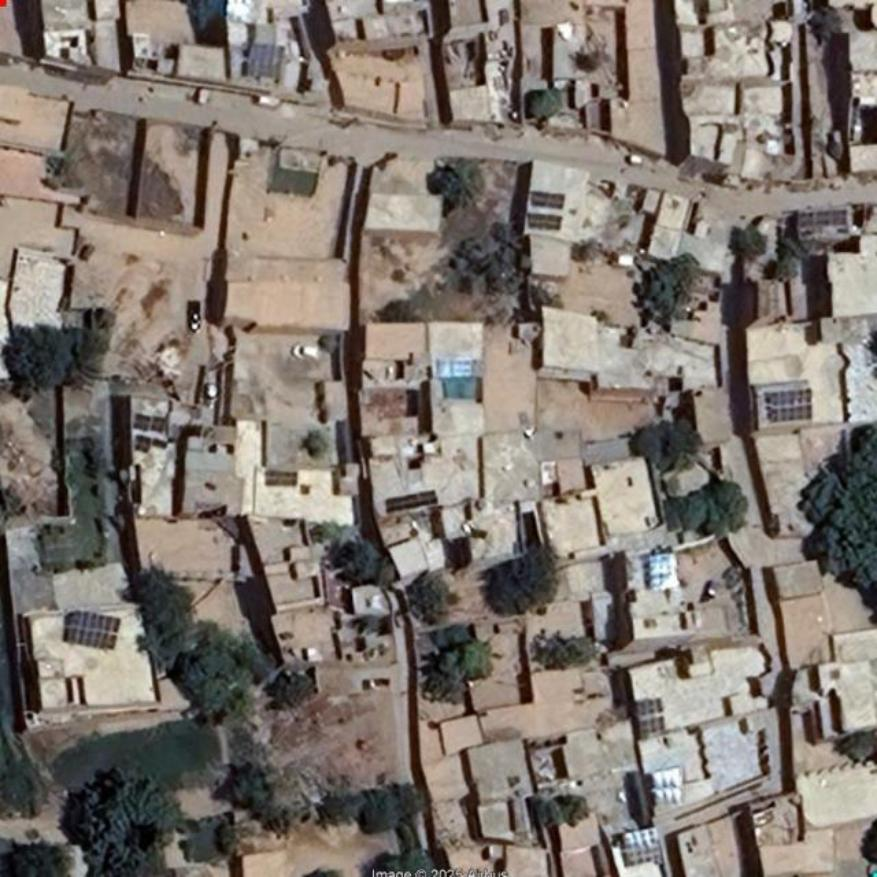Solarpanel: (71, 613, 118, 653), (768, 389, 815, 423), (623, 830, 662, 866), (532, 191, 565, 209), (528, 214, 563, 227)
